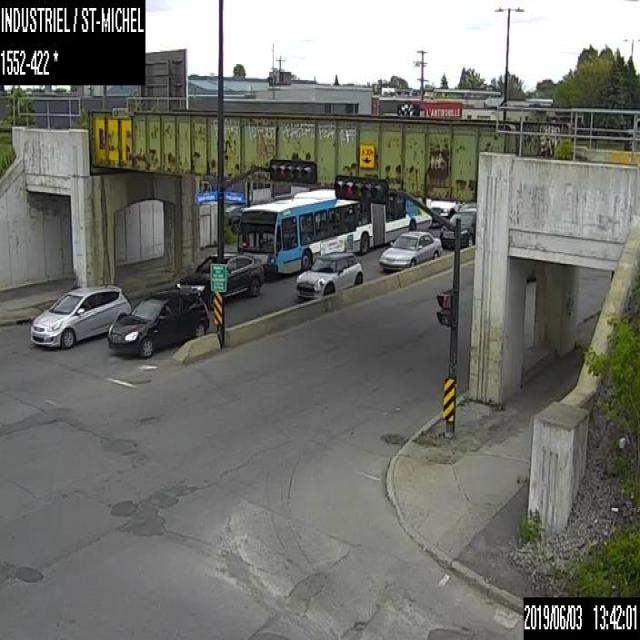bus: (233, 185, 432, 274)
vehicle: (107, 291, 208, 356), (28, 285, 132, 348), (174, 253, 263, 299), (296, 252, 362, 298), (378, 228, 441, 268), (440, 204, 476, 250), (431, 198, 464, 214)
